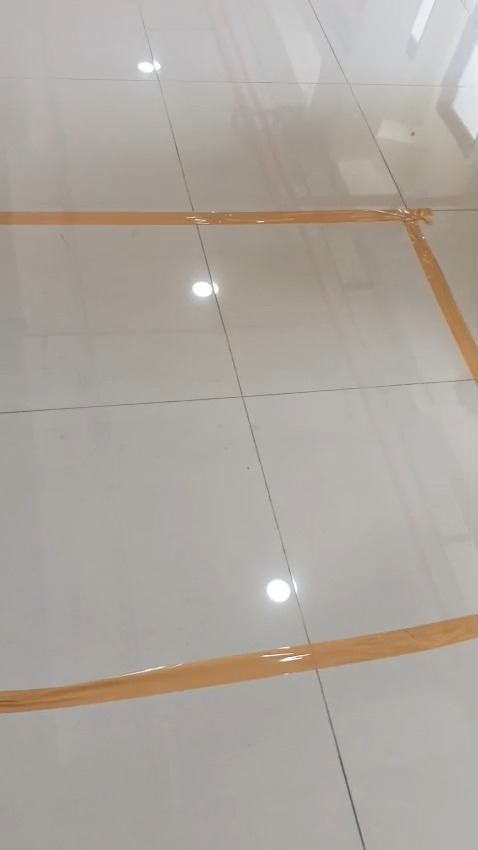floor marking: (0, 210, 477, 380), (0, 614, 477, 713)
